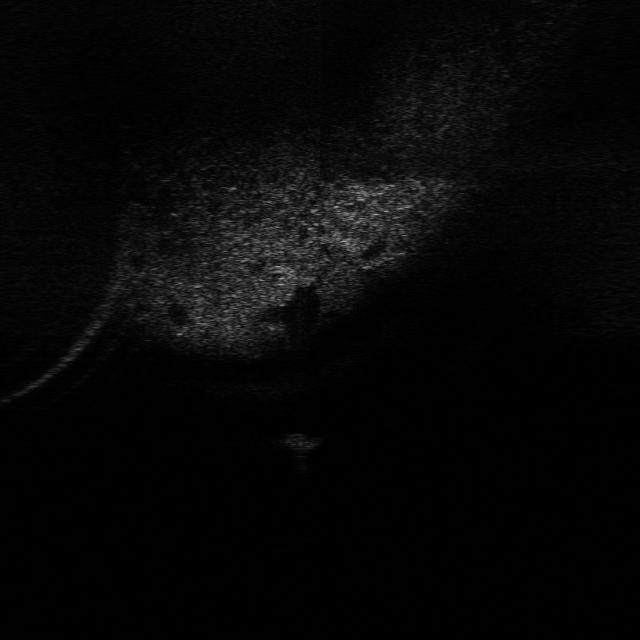cube: (266, 425, 323, 456)
